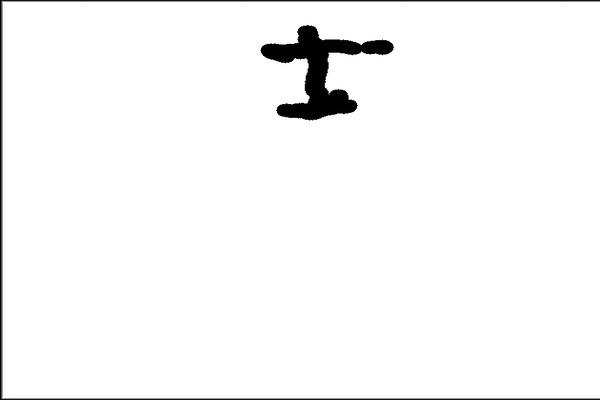i: (252, 19, 397, 129)
